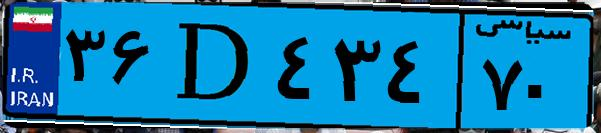0: (525, 38, 570, 115)
3: (330, 28, 385, 110), (57, 26, 110, 100)
4: (270, 28, 330, 110), (385, 28, 445, 110)
6: (110, 28, 158, 98)
7: (475, 38, 525, 113)
D: (158, 12, 270, 120)
